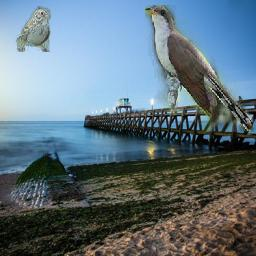Cuckoo: (146, 6, 255, 133)
Sparrow: (15, 6, 51, 52)
